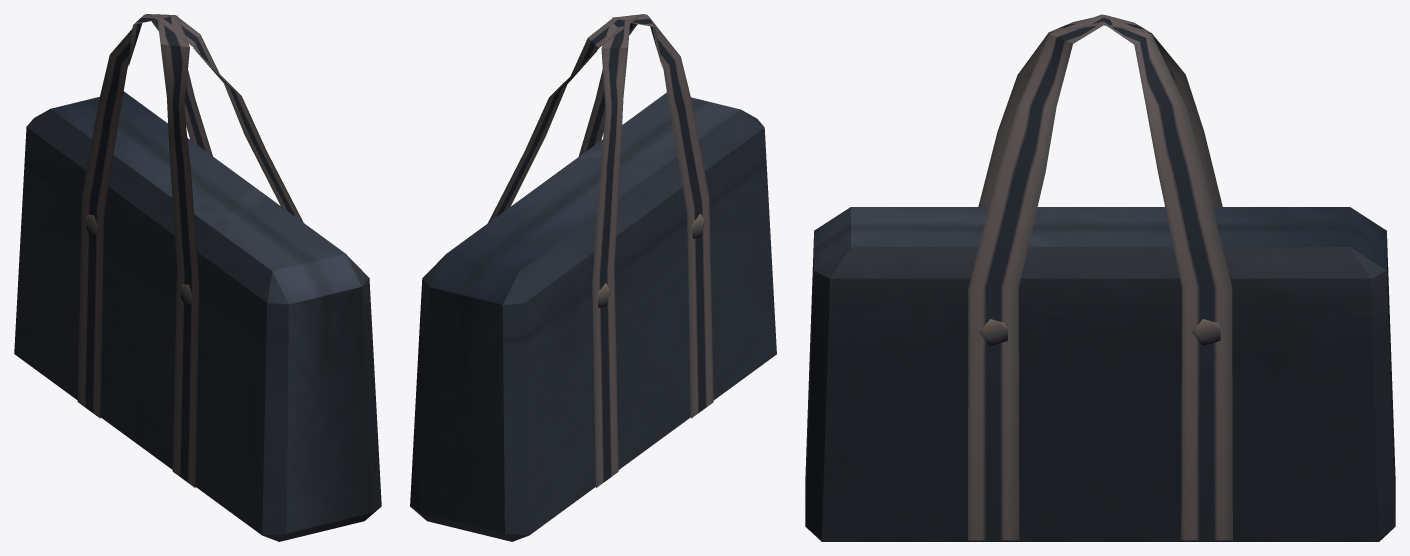
The model's file is bag_typeA1_nig.FBX.
3 views of the same model, side by side, from view 1: azimuth 30°, elevation 25°; view 2: azimuth 150°, elevation 25°; view 3: azimuth 270°, elevation 25° (orthographic). The views are drawn at different scales.
Visible parts, largest first — view 1: crm_bagA000_nig; view 2: crm_bagA000_nig; view 3: crm_bagA000_nig.
Boxes of the visible parts, x1,y1,x2,y2 form: crm_bagA000_nig: [14, 14, 381, 541]; crm_bagA000_nig: [410, 14, 776, 541]; crm_bagA000_nig: [805, 14, 1395, 541].
Size of the model in its own units: 11.67 by 39.09 by 43.33.
